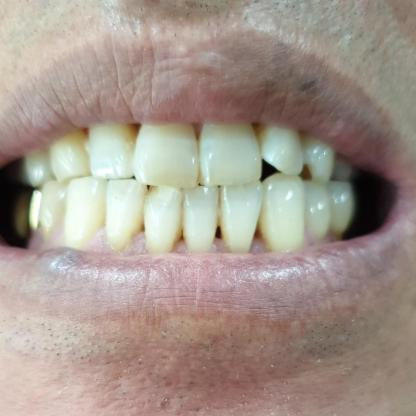Crowding: (141, 187, 205, 243)
Healthy: (133, 123, 260, 187), (64, 179, 141, 249), (52, 125, 132, 178)
